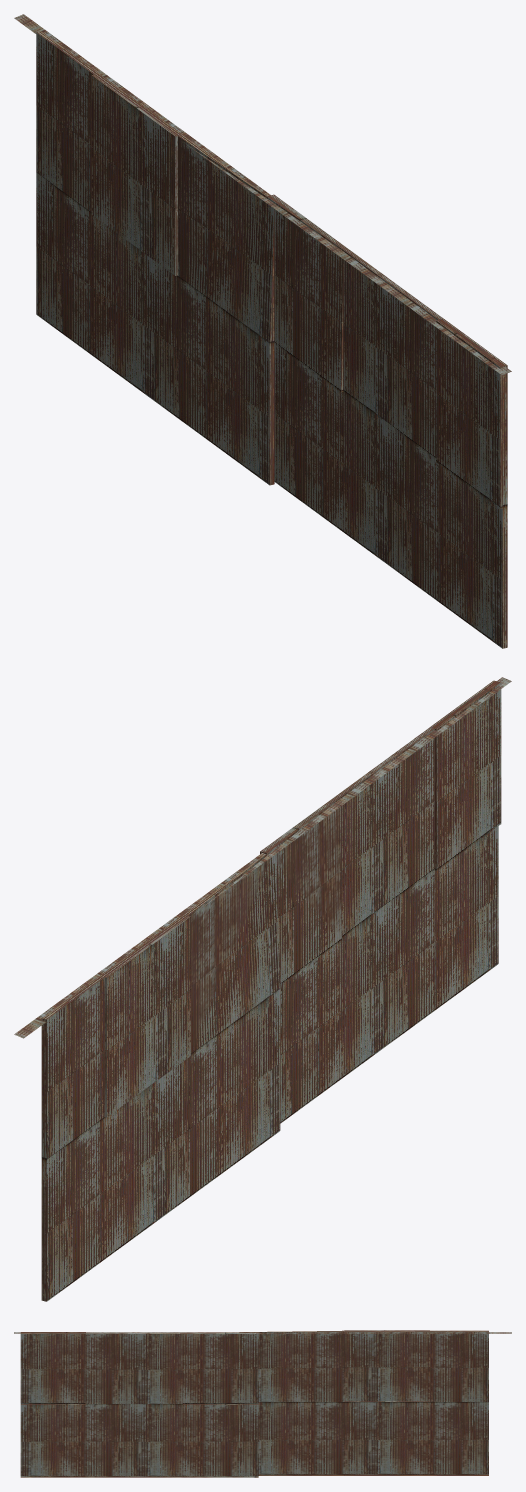
Rendered from rusty_plating_metalcorrugateda_0_lev1.glb.
The picture shows the model from 3 angles, top to bottom: view 1: azimuth 30°, elevation 25°; view 2: azimuth 150°, elevation 25°; view 3: azimuth 270°, elevation 25°; orthographic projection. The views are drawn at different scales.
Parts seen in each view (by area): view 1: rusty_plating_metalcorrugateda_0_lev1; view 2: rusty_plating_metalcorrugateda_0_lev1; view 3: rusty_plating_metalcorrugateda_0_lev1.
Boxes of the visible parts, x1,y1,x2,y2 form: rusty_plating_metalcorrugateda_0_lev1: (14, 14, 511, 648); rusty_plating_metalcorrugateda_0_lev1: (14, 677, 511, 1301); rusty_plating_metalcorrugateda_0_lev1: (14, 1330, 511, 1477).
Bounding box in the file's own units: 0.1175 × 2.14 × 6.71.
Materials: 1 (1 with a texture image).
